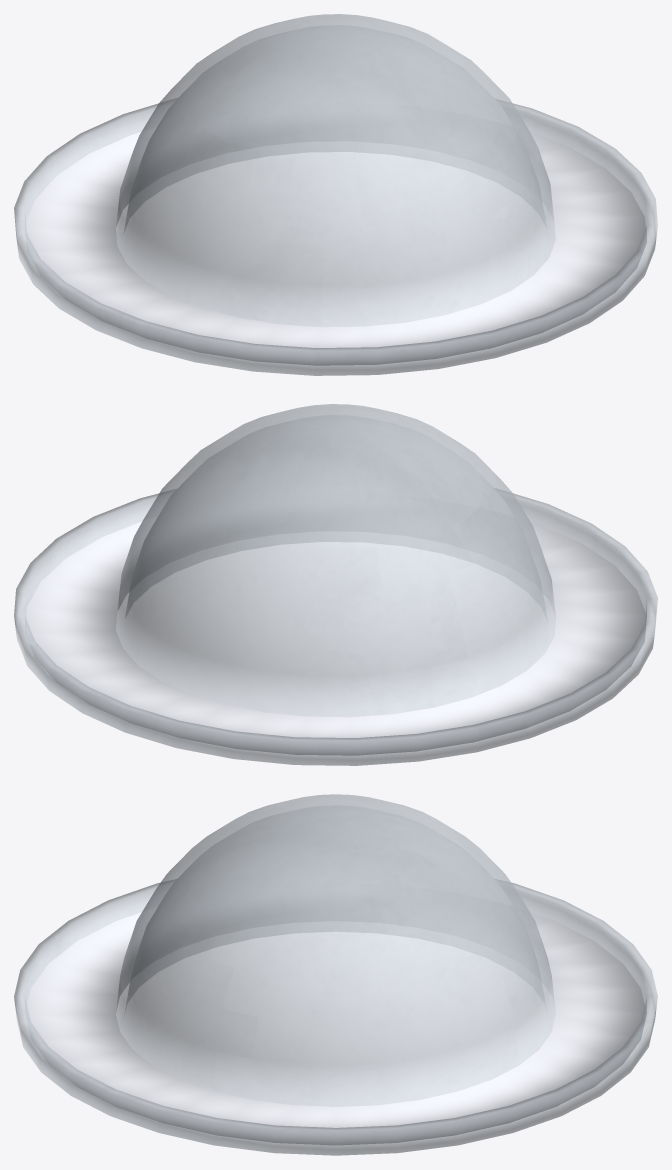
Rendered from yoTyanShakerTrayV2.fbx.
The picture shows the model from 3 angles, top to bottom: view 1: azimuth 30°, elevation 25°; view 2: azimuth 150°, elevation 25°; view 3: azimuth 270°, elevation 25°; orthographic projection.
Visible parts, largest first — view 1: Sphere; view 2: Sphere; view 3: Sphere.
Part boxes in pixels (<box>): Sphere: <box>14,14,657,375</box>; Sphere: <box>14,404,657,765</box>; Sphere: <box>14,794,657,1155</box>.
Bounding box in the file's own units: 21.3 × 7.55 × 21.3.
Materials: 2 (1 with a texture image).
